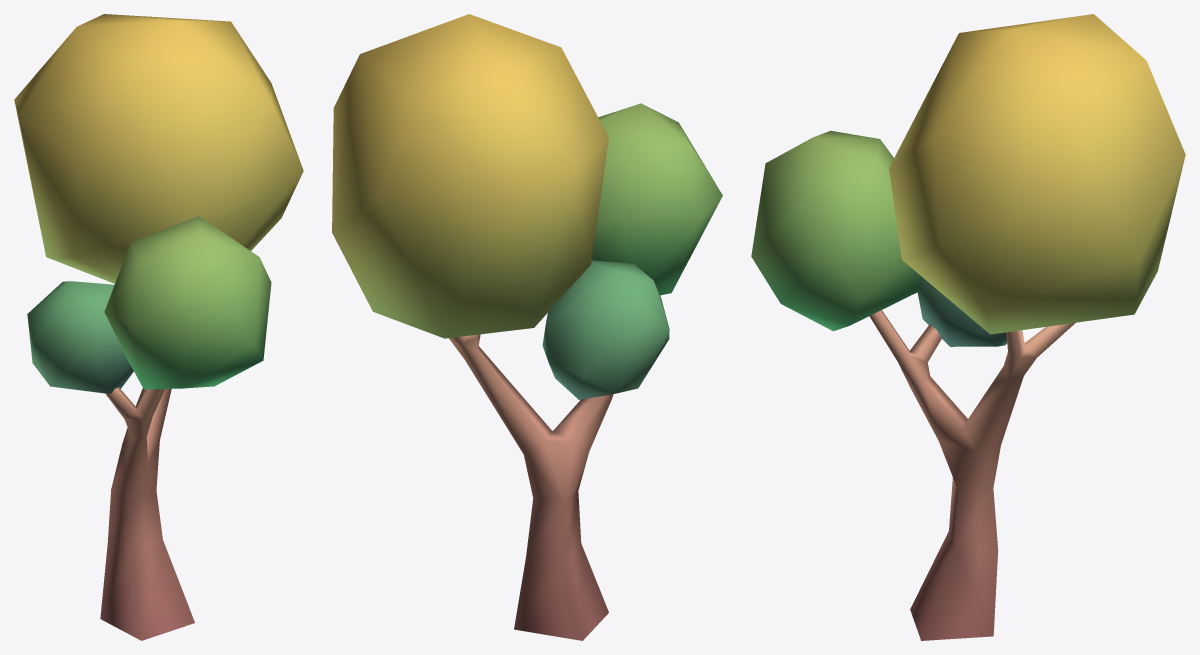
Rendered from Tree_Oak_01.fbx.
3 renders of one model, left to right at view 1: azimuth 30°, elevation 25°; view 2: azimuth 150°, elevation 25°; view 3: azimuth 270°, elevation 25°, orthographic. The views are drawn at different scales.
Parts seen in each view (by area): view 1: Tree_Oak_01, Tree_Oak_01_Trunk; view 2: Tree_Oak_01, Tree_Oak_01_Trunk; view 3: Tree_Oak_01, Tree_Oak_01_Trunk.
Boxes of the visible parts, box(x1,y1,x2,y2) form: Tree_Oak_01: box(14, 14, 303, 393); Tree_Oak_01_Trunk: box(100, 387, 194, 640); Tree_Oak_01: box(332, 14, 722, 399); Tree_Oak_01_Trunk: box(449, 334, 613, 640); Tree_Oak_01: box(751, 14, 1185, 346); Tree_Oak_01_Trunk: box(869, 310, 1075, 640).
Bounding box in the file's own units: 352 × 696 × 439.
